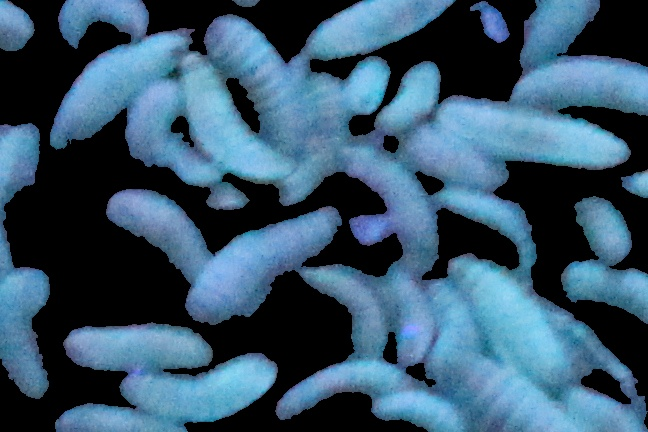larvae: (186, 214, 346, 322), (49, 29, 189, 151), (451, 253, 584, 377), (438, 95, 628, 168), (181, 52, 287, 179), (337, 141, 440, 267), (277, 348, 413, 427), (300, 1, 479, 58), (107, 188, 217, 279), (120, 353, 275, 415), (205, 18, 289, 131), (436, 355, 558, 432), (126, 77, 210, 183), (436, 185, 536, 271), (514, 54, 648, 115), (305, 263, 389, 355), (1, 267, 51, 400), (398, 128, 507, 189), (66, 323, 210, 368), (510, 1, 598, 63), (423, 281, 479, 376), (384, 267, 435, 364), (563, 262, 648, 317), (568, 188, 630, 263), (60, 1, 150, 52), (296, 69, 353, 144), (46, 400, 178, 432), (371, 388, 464, 432), (275, 149, 344, 207), (565, 383, 645, 432), (395, 55, 439, 119), (345, 50, 385, 119)
